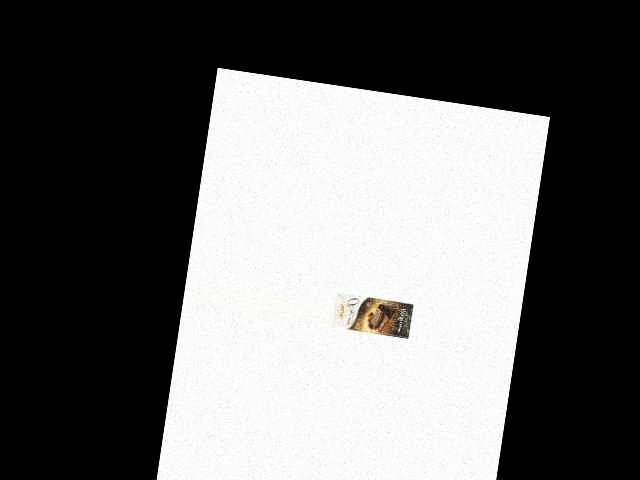chocolate: (331, 290, 414, 340)
